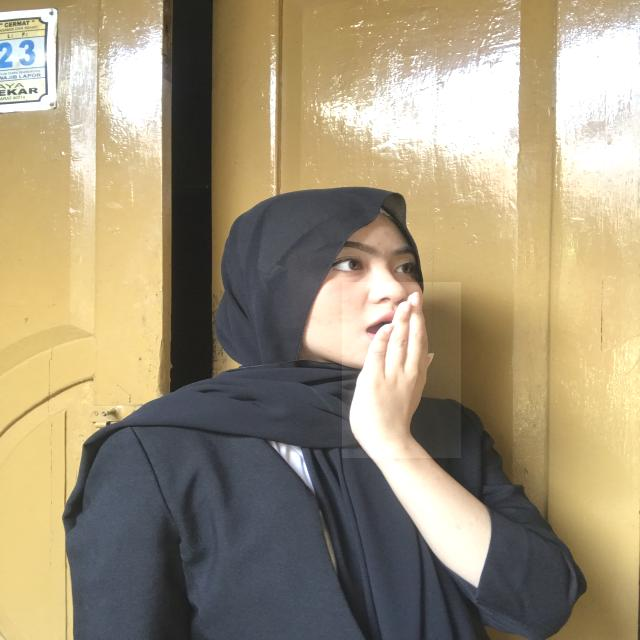ngantuk: (342, 282, 461, 458)
